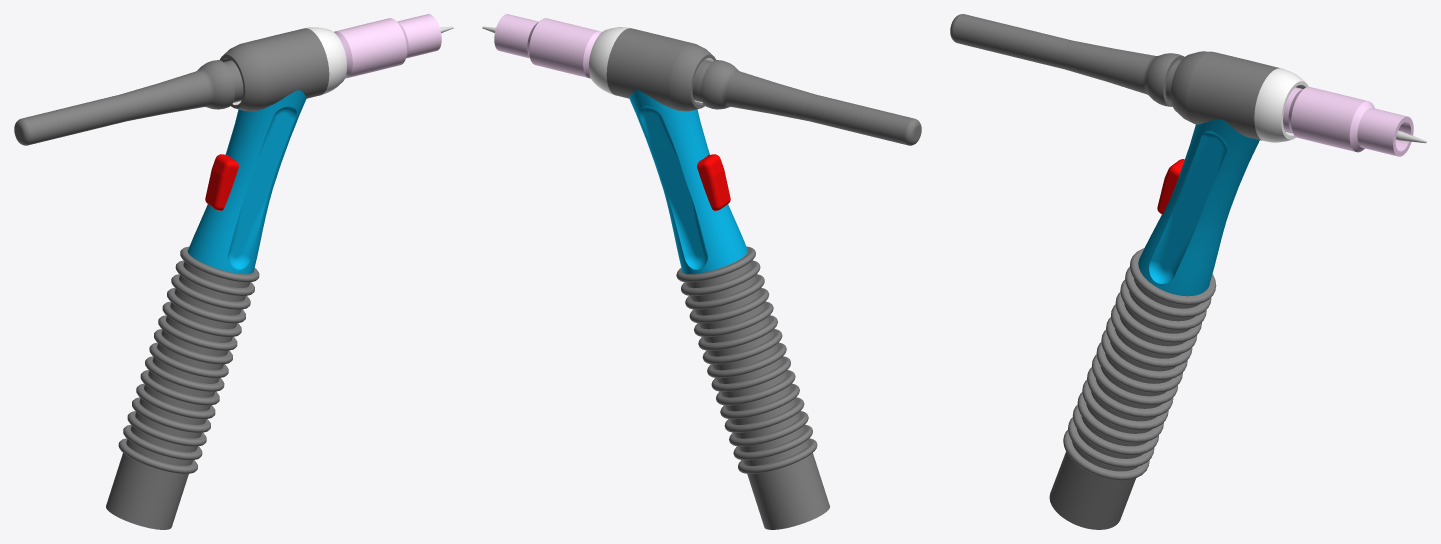
The model's file is TCC-24.001-U05-02_Final.fbx.
3 renders of one model, left to right at view 1: azimuth 30°, elevation 25°; view 2: azimuth 150°, elevation 25°; view 3: azimuth 330°, elevation 25°, orthographic. The views are drawn at different scales.
Visible parts, largest first — view 1: Body1, Body4; view 2: Body1, Body4; view 3: Body1, Body4.
Boxes of the visible parts, x1=… form: Body1: x1=14, y1=14, x2=453, y2=529; Body4: x1=205, y1=154, x2=238, y2=210; Body1: x1=482, y1=14, x2=921, y2=529; Body4: x1=697, y1=154, x2=730, y2=210; Body1: x1=950, y1=14, x2=1426, y2=529; Body4: x1=1157, y1=159, x2=1184, y2=214.
Bounding box in the file's own units: 9.21 × 9.21 × 1.52.
